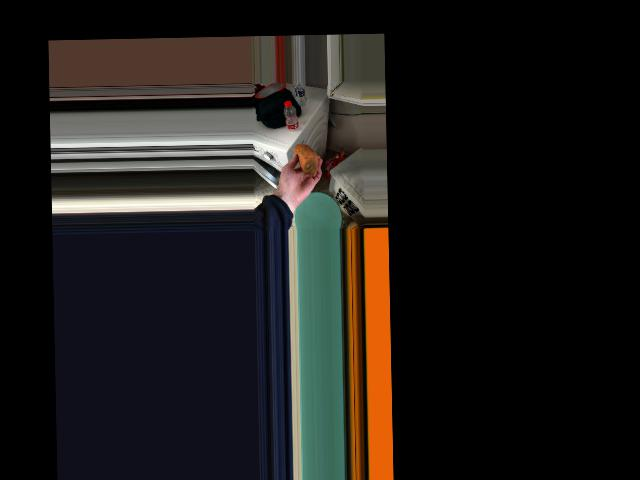sweet_potato: (295, 143, 318, 172)
